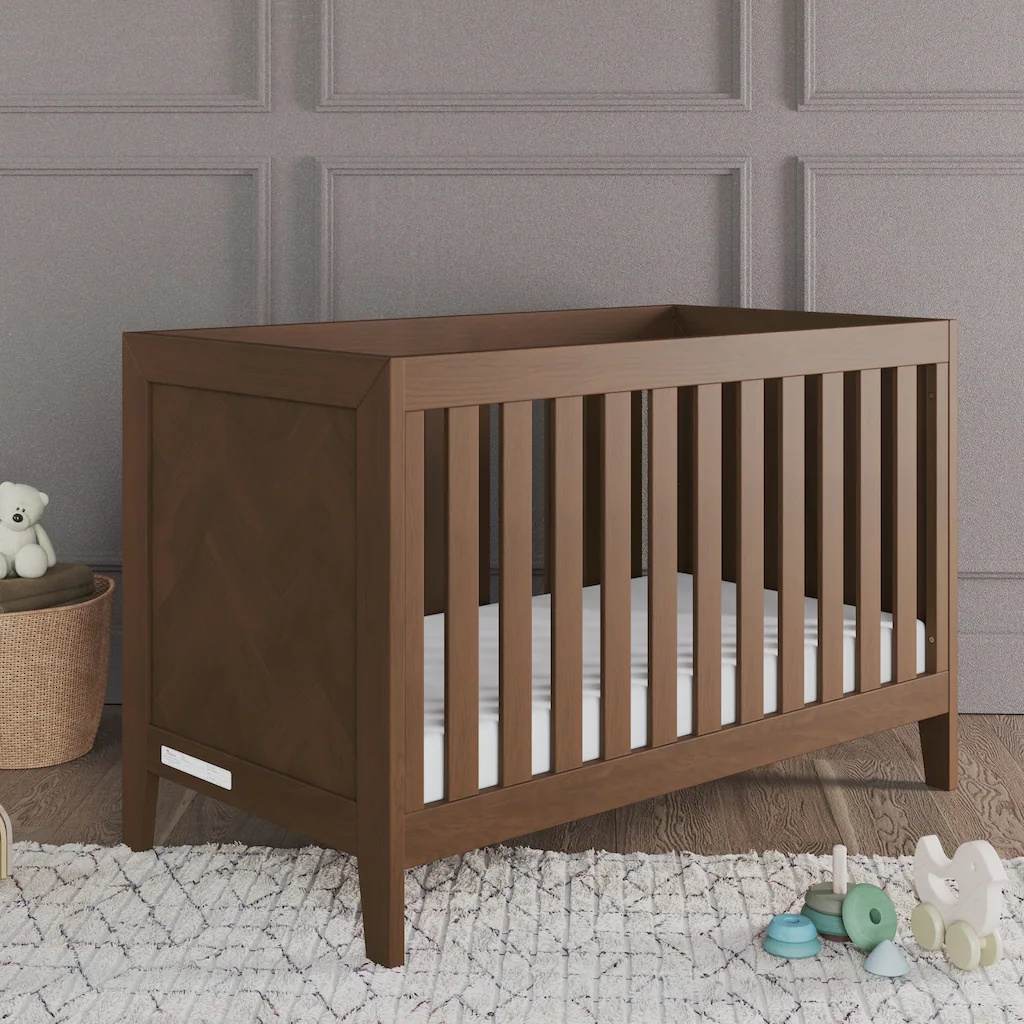crib: (123, 306, 956, 964)
